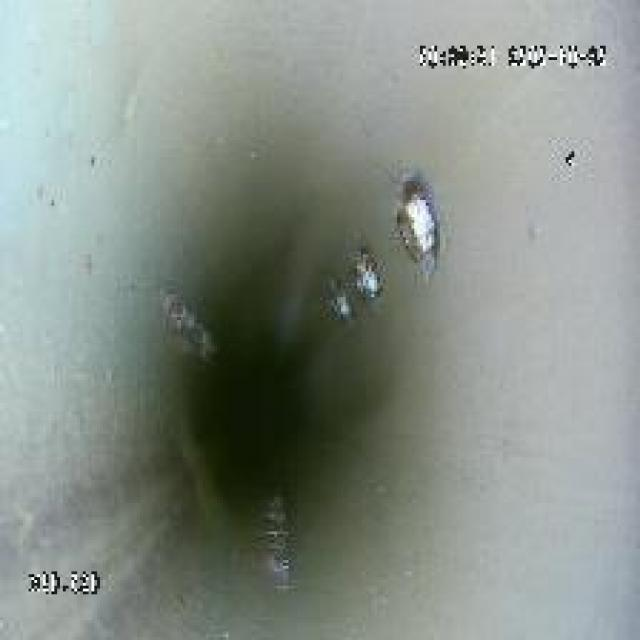ferrule: (392, 180, 437, 257), (348, 249, 392, 294), (323, 283, 346, 317)
